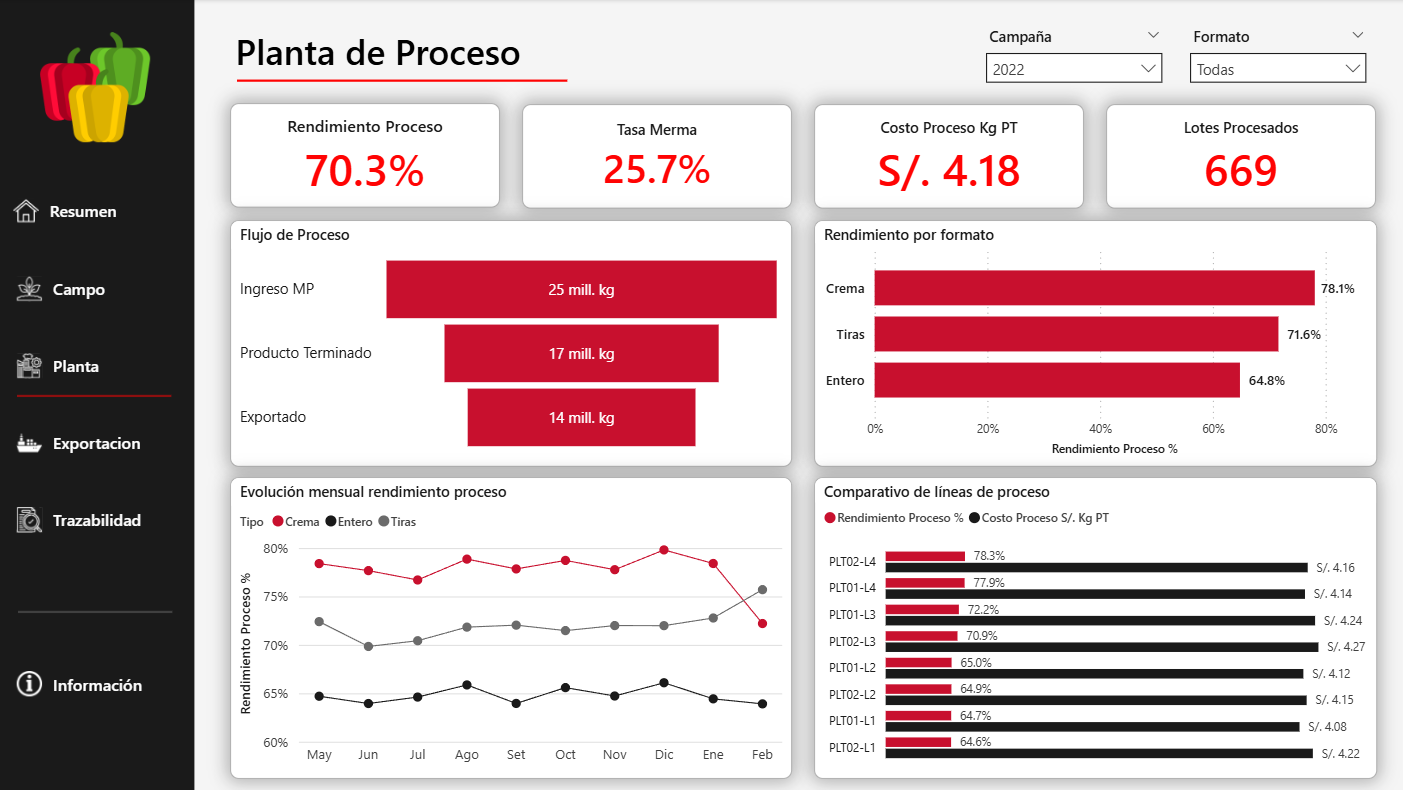

The dashboard page shown, as its layout file describes it:
{"tool":"powerbi","page":{"name":"Planta","canvas":[1280,720],"ordinal":2},"visuals":[{"type":"shape","box":[0,0,180.4,720],"z":0},{"type":"cardVisual","fields":{"Data":["FactProceso.Rendimiento Proceso %"]},"box":[212.2,94.5,245.3,95],"z":1000},{"type":"cardVisual","fields":{"Data":["FactProceso.Tasa Merma %"]},"box":[477.1,95,245,95],"z":2000},{"type":"cardVisual","fields":{"Data":["FactProceso.Costo Proceso S/. Kg PT"]},"box":[742.1,95,245,95],"z":3000},{"type":"cardVisual","fields":{"Data":["Count(FactProceso.LoteProcesoID)"]},"box":[1007.1,95,245,95],"z":4000},{"type":"textbox","box":[212.1,20,380,55],"z":5000},{"type":"shape","box":[218.2,68.4,299.6,12.1],"z":6000},{"type":"slicer","fields":{"Values":["DimFecha.Campania"]},"box":[887.8,20.1,180,60.3],"z":7000},{"type":"funnel","title":"Flujo de Proceso","fields":{"Y":["FactProceso.Total Kg Ingreso MP","FactProceso.Total Kg PT","FactDespacho.Kg Exportados"]},"box":[211.9,200.2,509.9,223.5],"z":8000},{"type":"clusteredBarChart","title":"Rendimiento por formato","fields":{"Category":["DimFormato.Tipo"],"Y":["FactProceso.Rendimiento Proceso %"]},"box":[742.4,200.2,510.8,223.5],"z":9000},{"type":"actionButton","box":[12,170,155,44],"z":10000},{"type":"shape","box":[18.9,353.7,140,12.6],"z":11000},{"type":"actionButton","box":[12,240,155,44],"z":12000},{"type":"actionButton","box":[12,310,155,44],"z":13000},{"type":"actionButton","box":[12,380,155,44],"z":14000},{"type":"actionButton","box":[12,450,155,44],"z":15000},{"type":"image","box":[39.5,29.6,99.7,99.7],"z":16000},{"type":"actionButton","box":[12,600,154.4,44],"z":17000},{"type":"shape","box":[19.8,550,140,12.6],"z":18000},{"type":"lineChart","title":" Evolución mensual rendimiento proceso","fields":{"Category":["DimFecha.NombreMesCampania"],"Y":["FactProceso.Rendimiento Proceso %"],"Series":["DimFormato.Tipo"]},"box":[211.9,433.6,509.9,273.8],"z":19000},{"type":"clusteredBarChart","title":"Comparativo de líneas de proceso","fields":{"Category":["DimLineaProceso.CodLinea"],"Y":["FactProceso.Rendimiento Proceso %","FactProceso.Costo Proceso S/. Kg PT"]},"box":[742.4,433.6,510.8,273.8],"z":20000},{"type":"slicer","fields":{"Values":["DimFormato.Tipo"]},"box":[1072.8,19.8,180.4,60.1],"z":21000}]}

Visuals, with their boxes on the page's 1280x720 design canvas (x1, y1, x2, y2). These are canvas units, not pixel positions in the 1403x790 screenshot, which may show the page scaled, cropped or inside an application window:
shape: pyautogui.locateOnScreen(0, 0, 180, 720)
cardVisual - FactProceso.Rendimiento Proceso %: pyautogui.locateOnScreen(212, 94, 458, 190)
cardVisual - FactProceso.Tasa Merma %: pyautogui.locateOnScreen(477, 95, 722, 190)
cardVisual - FactProceso.Costo Proceso S/. Kg PT: pyautogui.locateOnScreen(742, 95, 987, 190)
cardVisual - Count(FactProceso.LoteProcesoID): pyautogui.locateOnScreen(1007, 95, 1252, 190)
textbox: pyautogui.locateOnScreen(212, 20, 592, 75)
shape: pyautogui.locateOnScreen(218, 68, 518, 80)
slicer - DimFecha.Campania: pyautogui.locateOnScreen(888, 20, 1068, 80)
"Flujo de Proceso" funnel: pyautogui.locateOnScreen(212, 200, 722, 424)
"Rendimiento por formato" clusteredBarChart: pyautogui.locateOnScreen(742, 200, 1253, 424)
actionButton: pyautogui.locateOnScreen(12, 170, 167, 214)
shape: pyautogui.locateOnScreen(19, 354, 159, 366)
actionButton: pyautogui.locateOnScreen(12, 240, 167, 284)
actionButton: pyautogui.locateOnScreen(12, 310, 167, 354)
actionButton: pyautogui.locateOnScreen(12, 380, 167, 424)
actionButton: pyautogui.locateOnScreen(12, 450, 167, 494)
image: pyautogui.locateOnScreen(40, 30, 139, 129)
actionButton: pyautogui.locateOnScreen(12, 600, 166, 644)
shape: pyautogui.locateOnScreen(20, 550, 160, 563)
" Evolución mensual rendimiento proceso" lineChart: pyautogui.locateOnScreen(212, 434, 722, 707)
"Comparativo de líneas de proceso" clusteredBarChart: pyautogui.locateOnScreen(742, 434, 1253, 707)
slicer - DimFormato.Tipo: pyautogui.locateOnScreen(1073, 20, 1253, 80)
